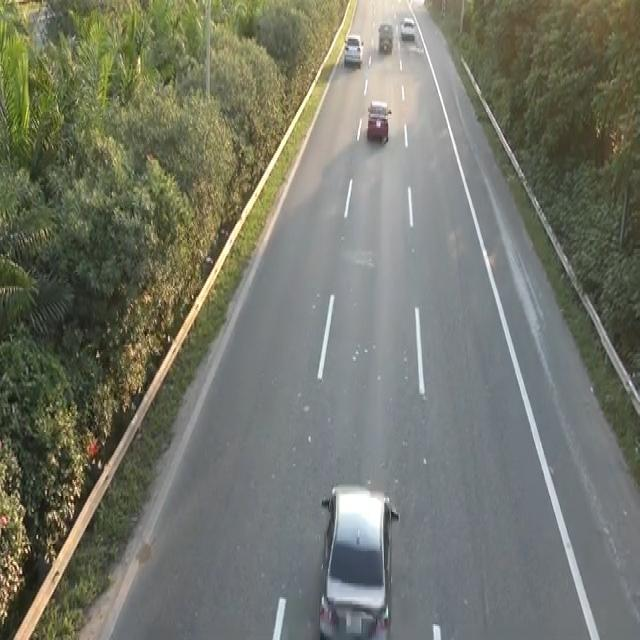bus: (316, 478, 401, 638), (365, 96, 391, 144)
car: (342, 30, 364, 68)
minivan: (377, 19, 393, 52)
